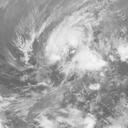cyclone: (49, 33, 102, 86)
